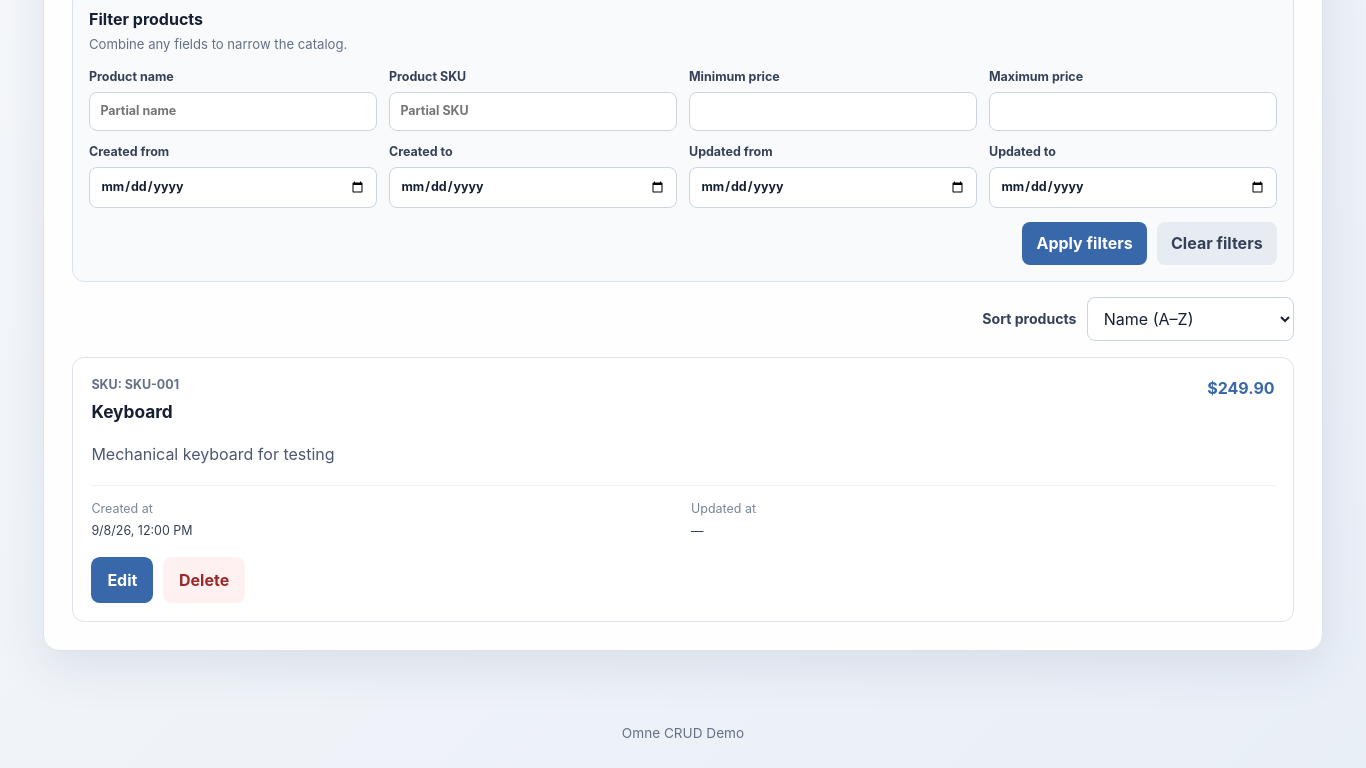
Test case: App › keeps the product when deletion is canceled
(page scrolled)
Click the button with aria-label "Delete Keyboard" at (204, 580), box [163,557,245,603]
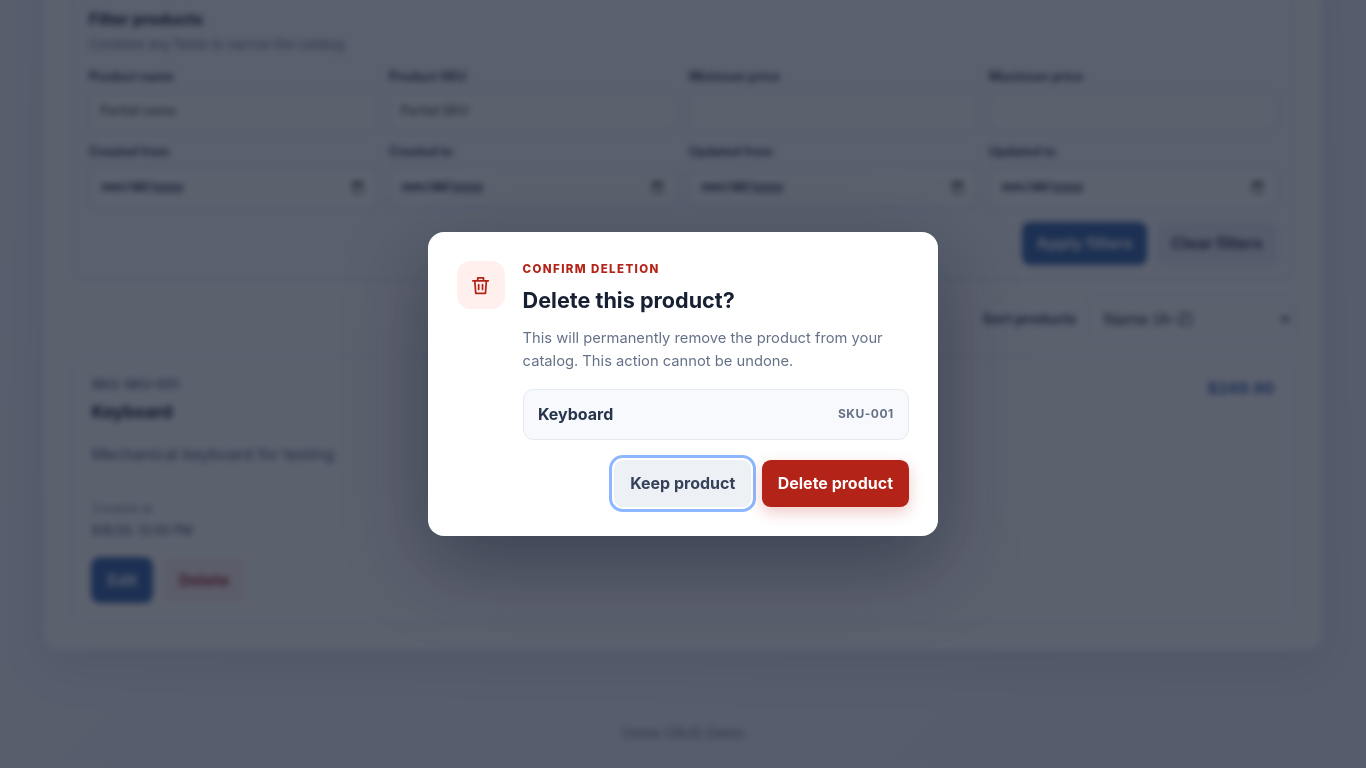
Click the button "Keep product" at (683, 483), box [614,460,751,507]
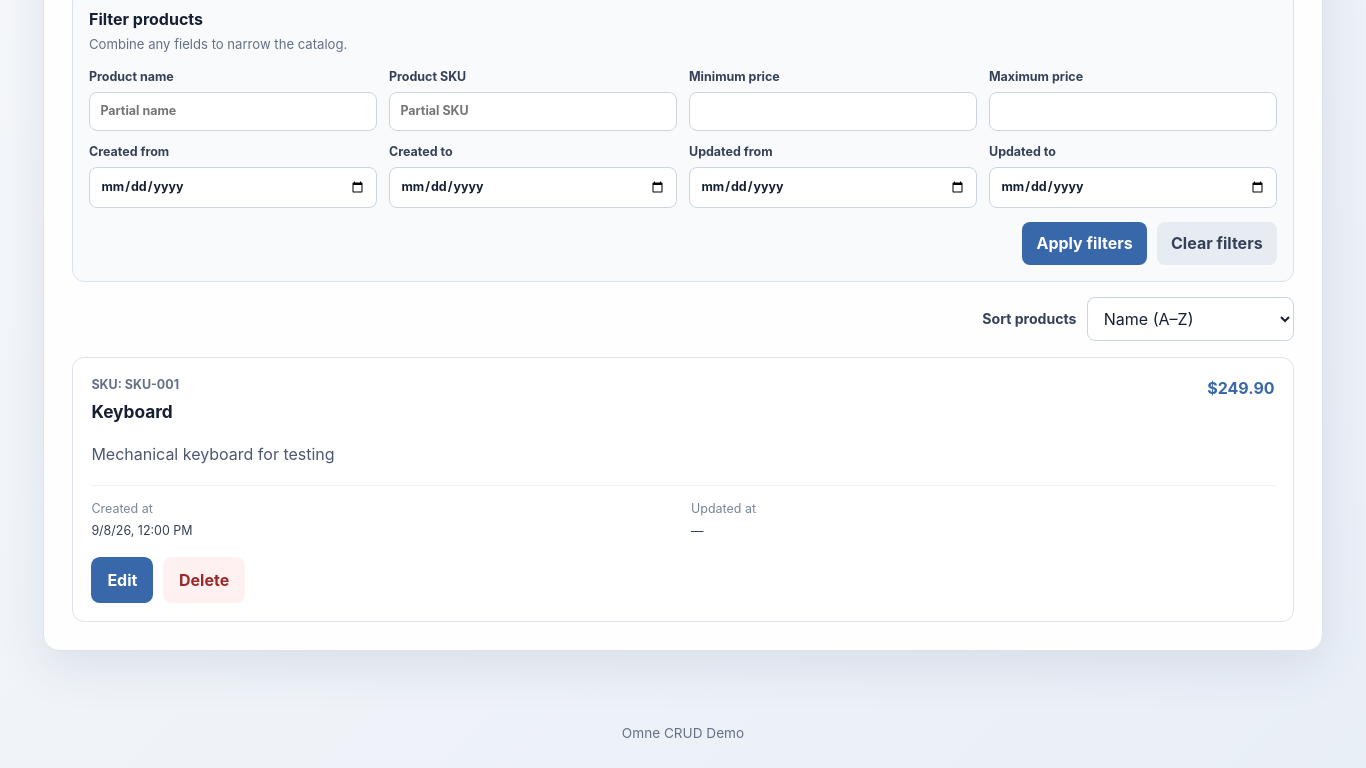
Expected: the heading "Keyboard" is shown, [91,399,179,425]
Expected: the dialog is gone
